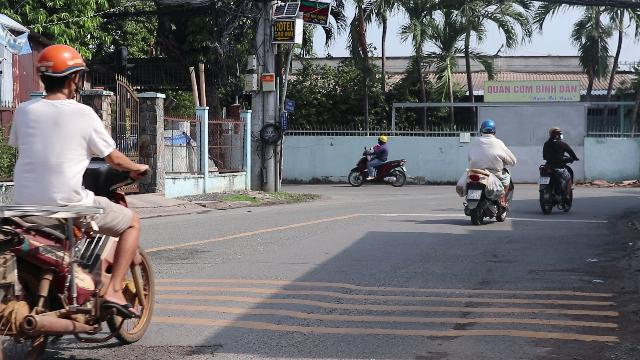helmet: (34, 44, 90, 98), (478, 120, 496, 136)
licenseplate: (466, 190, 482, 198)
motorcyclist: (0, 42, 160, 352), (456, 120, 514, 224)
